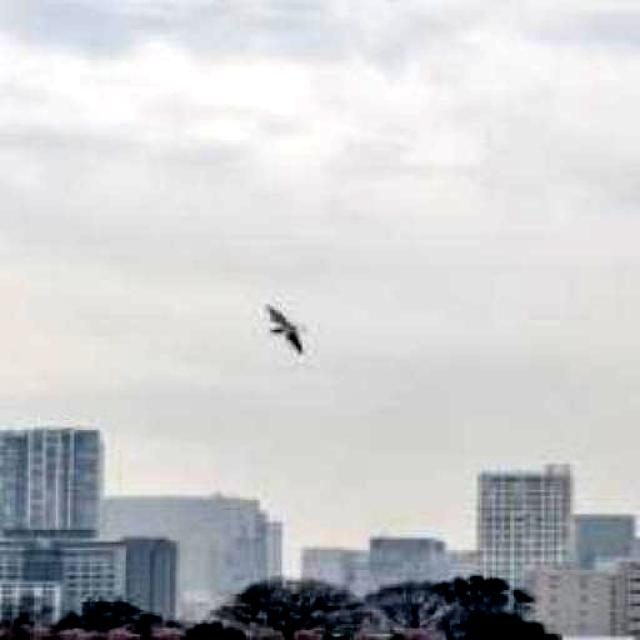airplane: (261, 306, 311, 356)
